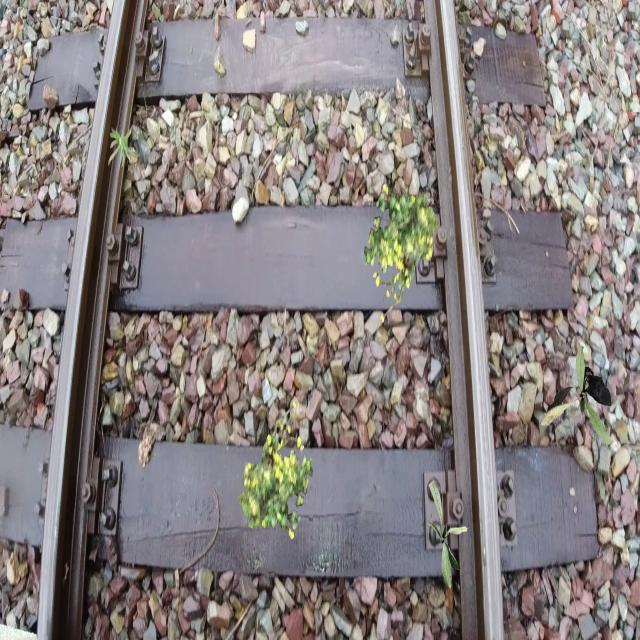Plant: (365, 183, 440, 323), (238, 400, 313, 540), (540, 346, 612, 446), (428, 480, 468, 590), (108, 126, 140, 172)
